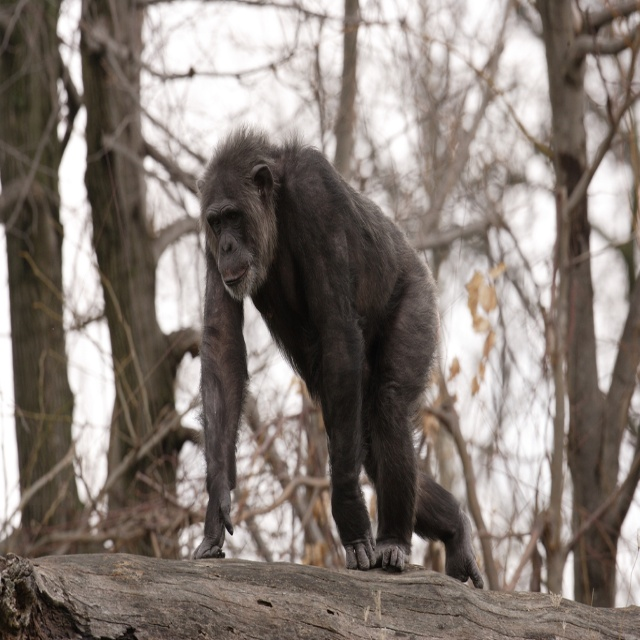Monkey: (190, 124, 486, 582)
